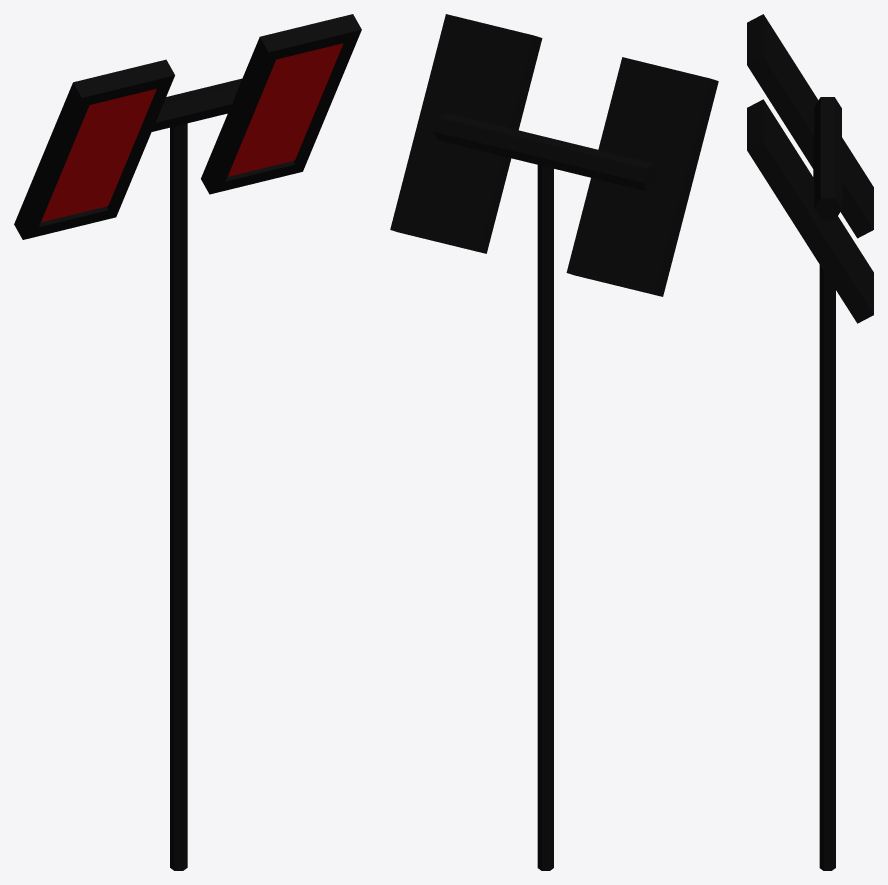
The model's file is GameJamFloodLightsfbx.fbx.
3 renders of one model, left to right at view 1: azimuth 30°, elevation 25°; view 2: azimuth 150°, elevation 25°; view 3: azimuth 270°, elevation 25°, orthographic. The views are drawn at different scales.
Parts seen in each view (by area): view 1: Cube.006, Cube.011; view 2: Cube.006; view 3: Cube.006.
Part boxes in pixels (box(x1,y1,x2,y2)): Cube.006: box(14, 14, 361, 870); Cube.011: box(41, 43, 343, 222); Cube.006: box(390, 14, 718, 870); Cube.006: box(747, 14, 873, 870).
Size of the model in its own units: 600 by 1729 by 252.
